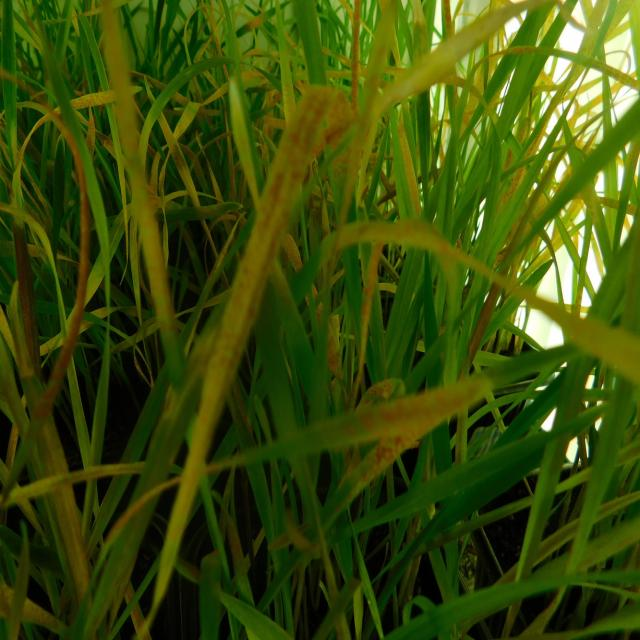wheat-yellowrust: (203, 88, 331, 392), (32, 136, 89, 423), (356, 434, 422, 490)
